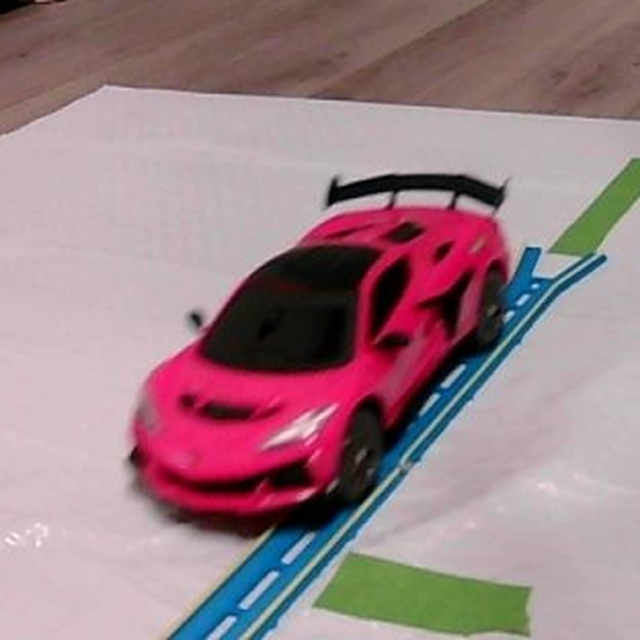tire_front_driver: (325, 400, 390, 500)
tire_rear_driver: (470, 265, 510, 345)
